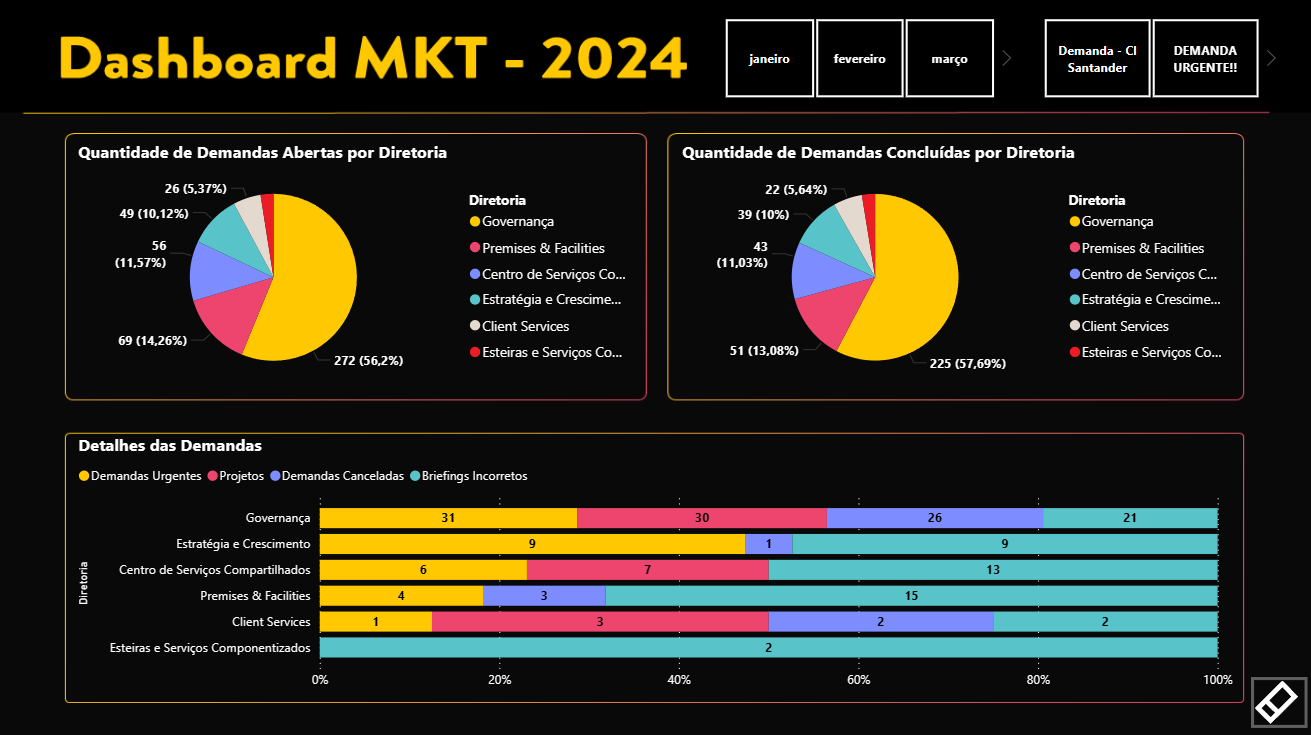

The page's visual inventory and layout, read from the dashboard file:
{"tool":"powerbi","page":{"name":"Diretoria","canvas":[1280,720],"ordinal":2},"visuals":[{"type":"pieChart","title":"Quantidade de Demandas Abertas por Diretoria","fields":{"Category":["base de 2024.Diretoria"],"Y":["CountNonNull(base de 2024.Título)"]},"box":[75.1,139.3,553.9,244.1],"z":0},{"type":"hundredPercentStackedBarChart","title":"Detalhes das Demandas","fields":{"Category":["base de 2024.Diretoria"],"Y":["base de 2024.Urgente Demandas","base de 2024.Projetos","base de 2024.Cancelada Demandas","base de 2024.Briefings Incorretos"]},"box":[75.3,424.5,1133.3,257],"z":1000},{"type":"pieChart","title":"Quantidade de Demandas Concluídas por Diretoria","fields":{"Category":["base de 2024.Diretoria"],"Y":["Sum(base de 2024.Conclusão)"]},"box":[662.1,138.9,546.5,244.1],"z":2000},{"type":"slicer","fields":{"Values":["base de 2024.Prioridade"]},"box":[994.5,13.4,257.7,90.1],"z":3000},{"type":"slicer","fields":{"Values":["base de 2024.Finalizado em.Variation.Hierarquia de datas.Mês"]},"box":[683.6,13.4,310.7,90.1],"z":4000},{"type":"actionButton","box":[1220.7,660.8,55.1,49.6],"z":5000}]}

Visuals, with their boxes in screenshot pixels (x1, y1, x2, y2), scaled from the page's 1280x720 canvas onto the 1311x735 screenshot:
"Quantidade de Demandas Abertas por Diretoria" pieChart: crop(77, 142, 644, 391)
"Detalhes das Demandas" hundredPercentStackedBarChart: crop(77, 433, 1238, 696)
"Quantidade de Demandas Concluídas por Diretoria" pieChart: crop(678, 142, 1238, 391)
slicer - base de 2024.Prioridade: crop(1019, 14, 1283, 106)
slicer - base de 2024.Finalizado em.Variation.Hierarquia de datas.Mês: crop(700, 14, 1018, 106)
actionButton: crop(1250, 675, 1307, 725)
